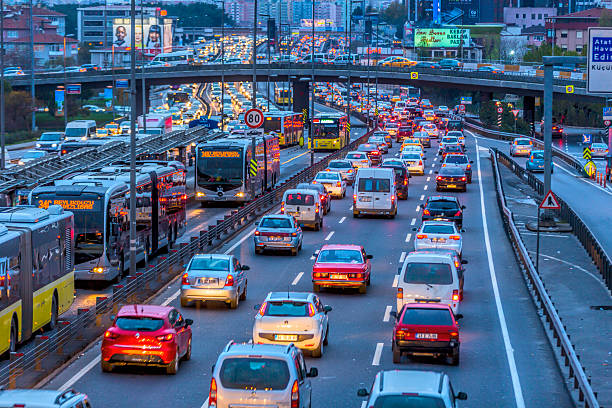bus: (39, 179, 169, 266), (1, 206, 77, 331), (195, 136, 276, 195), (311, 113, 348, 152), (262, 112, 304, 146), (275, 87, 293, 104)
car: (101, 305, 191, 376), (209, 345, 308, 408), (253, 292, 325, 355), (390, 303, 463, 361), (180, 252, 247, 314), (362, 365, 458, 408), (395, 252, 461, 313), (314, 244, 370, 299), (354, 171, 396, 219), (255, 218, 301, 256), (282, 189, 321, 230), (413, 219, 461, 252), (420, 193, 462, 228), (300, 182, 328, 214), (314, 171, 345, 198), (63, 121, 96, 144), (436, 167, 465, 191), (386, 166, 407, 197), (327, 159, 354, 183), (444, 154, 471, 178), (36, 130, 63, 153), (402, 153, 425, 176), (528, 151, 552, 172), (358, 144, 381, 163), (509, 136, 530, 155), (298, 52, 325, 65), (368, 135, 386, 154), (412, 131, 430, 149), (439, 135, 458, 152), (332, 53, 358, 65), (397, 126, 415, 143), (349, 152, 368, 168), (420, 124, 439, 140), (436, 59, 463, 70), (446, 120, 464, 135), (105, 123, 120, 139), (384, 59, 411, 67), (385, 122, 399, 137)
